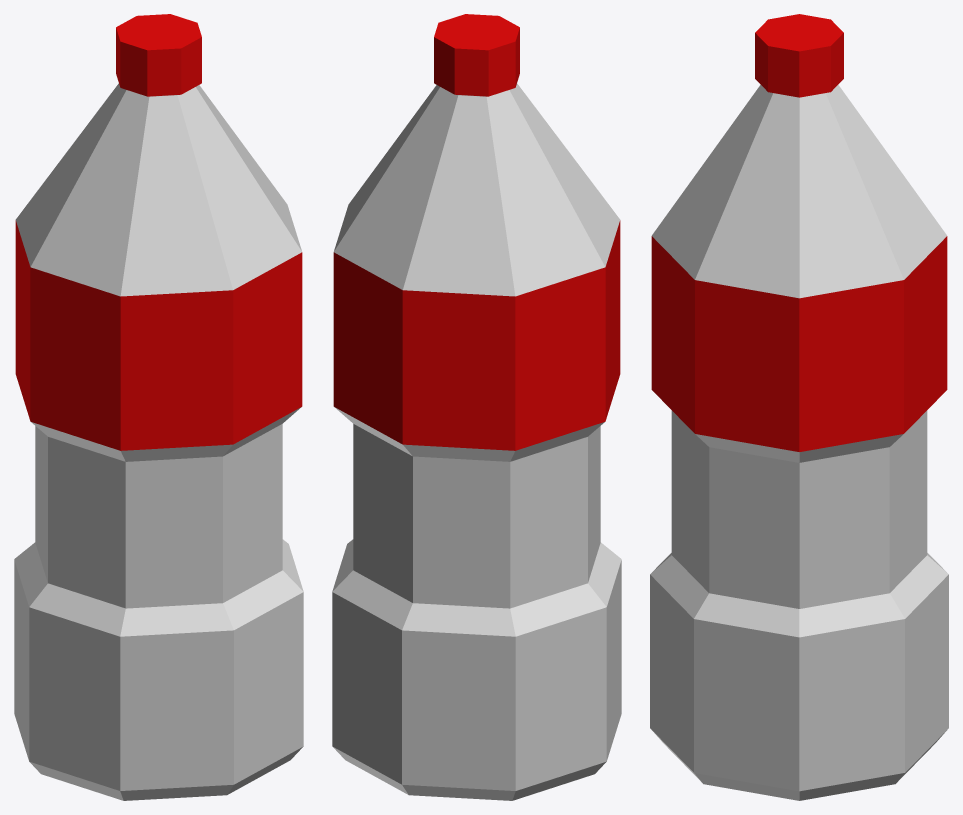
The model's file is bottle.fbx.
The picture shows the model from 3 angles, left to right: view 1: azimuth 30°, elevation 25°; view 2: azimuth 150°, elevation 25°; view 3: azimuth 270°, elevation 25°; orthographic projection.
Parts seen in each view (by area): view 1: bottle; view 2: bottle; view 3: bottle.
Part boxes in pixels (box(x1,y1,x2,y2)): bottle: box(14, 14, 303, 800); bottle: box(332, 14, 621, 800); bottle: box(650, 14, 948, 800).
Bounding box in the file's own units: 176 × 462 × 176.
